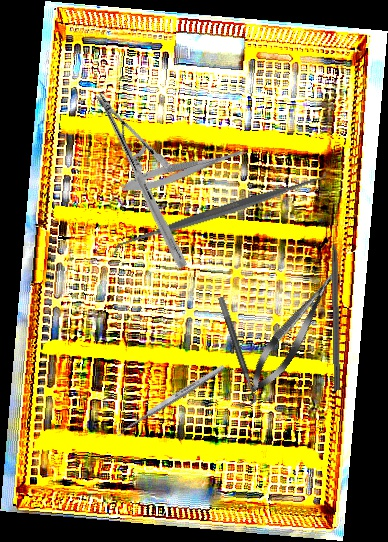Fixation Ring: (208, 296, 259, 407)
Hook Surgical: (331, 223, 342, 391)
Micro Scissor: (240, 261, 350, 400), (119, 138, 252, 199)
Needle Holder: (42, 90, 240, 271)
Spatula Surgical: (108, 164, 332, 260)
Surgical Spoon: (114, 363, 226, 438)
